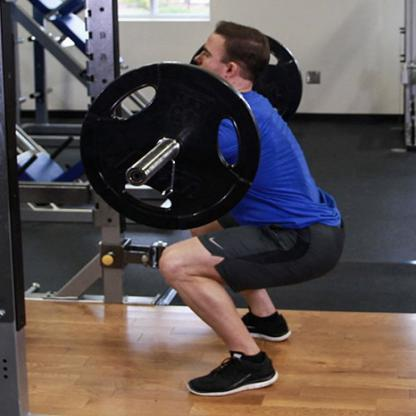Barbell: (126, 167, 150, 188)
